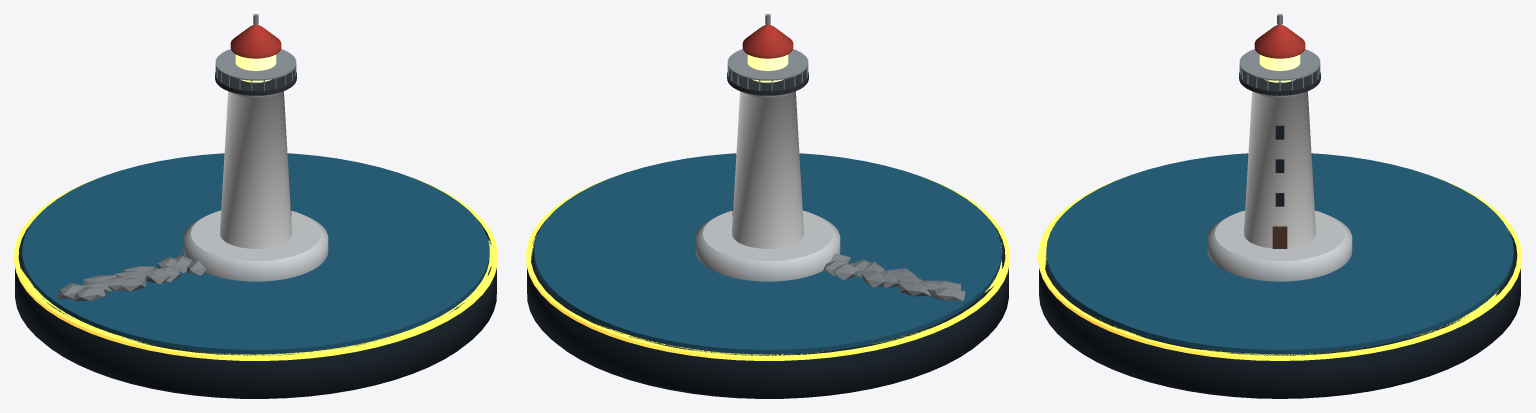
The model's file is lighthouse.glb.
The picture shows the model from 3 angles, left to right: view 1: azimuth 30°, elevation 25°; view 2: azimuth 150°, elevation 25°; view 3: azimuth 270°, elevation 25°; orthographic projection.
Visible parts, largest first — view 1: ground, plinth, tower, base, rim, rail_top, cap, gallery, lantern; view 2: ground, plinth, tower, base, rim, rail_top, cap, gallery, lantern; view 3: ground, plinth, tower, base, rim, rail_top, cap, gallery, lantern.
Part boxes in pixels (x1,y1,x2,y2): ground: [22, 153, 489, 354]; plinth: [15, 218, 496, 398]; tower: [220, 91, 291, 248]; base: [183, 210, 328, 281]; rim: [14, 175, 497, 360]; rail_top: [215, 49, 296, 80]; cap: [230, 25, 281, 58]; gallery: [215, 69, 296, 95]; lantern: [235, 54, 276, 82]; ground: [534, 153, 1001, 354]; plinth: [527, 218, 1008, 398]; tower: [732, 91, 803, 248]; base: [695, 210, 840, 281]; rim: [526, 175, 1009, 360]; rail_top: [727, 49, 808, 80]; cap: [742, 25, 793, 58]; gallery: [727, 69, 808, 95]; lantern: [747, 54, 788, 82]; ground: [1046, 153, 1513, 354]; plinth: [1039, 218, 1520, 398]; tower: [1244, 91, 1315, 248]; base: [1207, 210, 1352, 281]; rim: [1038, 175, 1521, 360]; rail_top: [1239, 49, 1320, 80]; cap: [1254, 25, 1305, 58]; gallery: [1239, 69, 1320, 95]; lantern: [1259, 54, 1300, 82].
Size of the model in its own units: 2.01 by 1.3 by 2.01.
